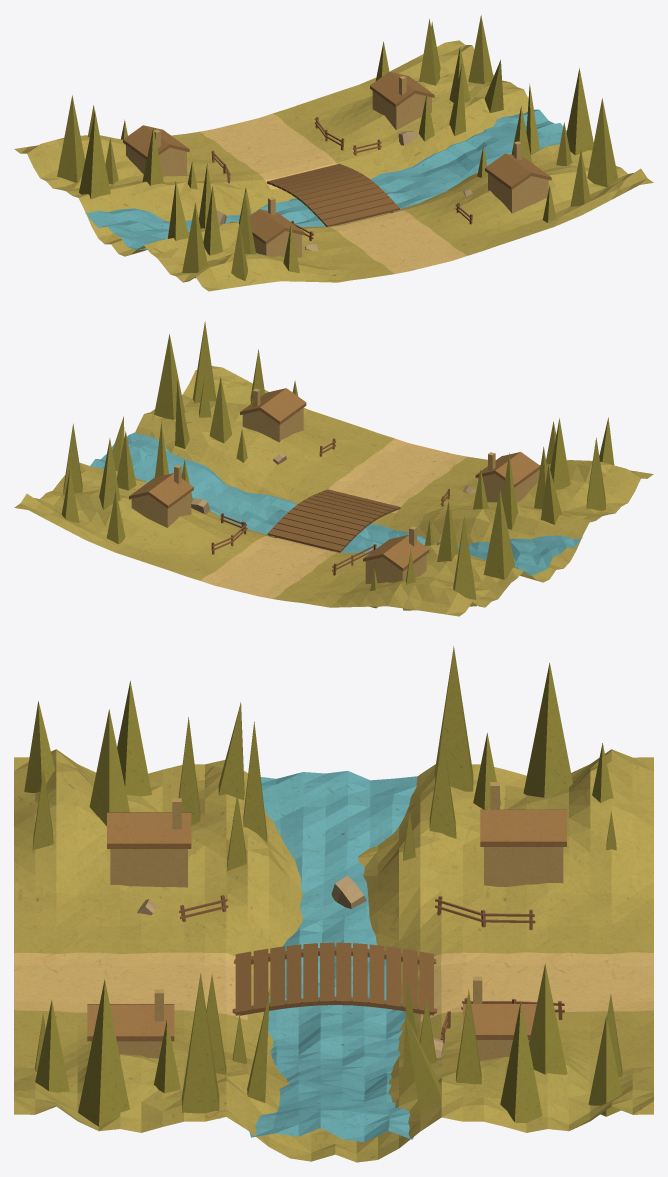
Rendered from road_river.fbx.
The picture shows the model from 3 angles, top to bottom: view 1: azimuth 30°, elevation 25°; view 2: azimuth 150°, elevation 25°; view 3: azimuth 270°, elevation 25°; orthographic projection. The views are drawn at different scales.
Parts seen in each view (by area): view 1: Landscape.002; view 2: Landscape.002; view 3: Landscape.002.
Part boxes in pixels (bbox=[...]): Landscape.002: bbox=[14, 15, 653, 291]; Landscape.002: bbox=[14, 321, 653, 616]; Landscape.002: bbox=[14, 646, 653, 1162].
Size of the model in its own units: 535 by 155 by 402.
Materials: 1 (1 with a texture image).
